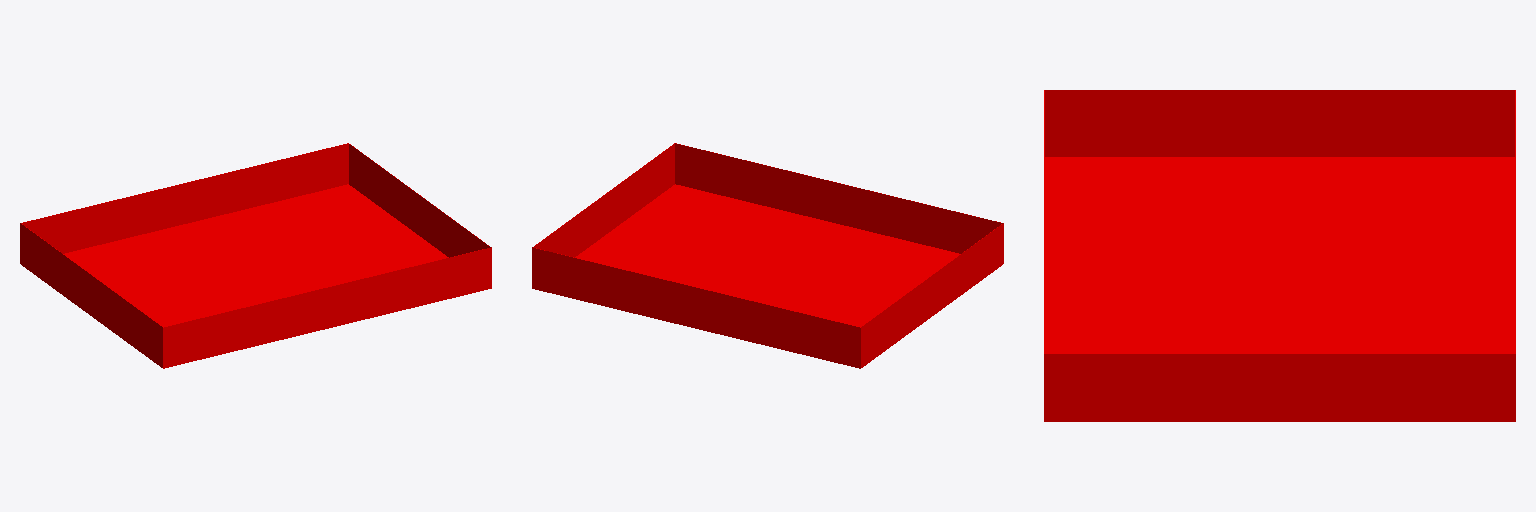
URDF robot description (square.urdf):
<?xml version="1.0" ?>
<robot name="square.urdf">
  <link name="baseLink">
    <contact>
      <lateral_friction value="1.0"/>
      <inertia_scaling value="3.0"/>
    </contact>
    <inertial>
      <origin rpy="0 0 0" xyz="0 0 0"/>
       <mass value=".1"/>
       <inertia ixx="1" ixy="0" ixz="0" iyy="1" iyz="0" izz="1"/>
    </inertial>
    <visual>
      <origin rpy="0 0 0" xyz="0 0 0"/>
      <geometry>
        <mesh filename="3.stl" scale="1 1 1" />
      </geometry>
      <material name="red">
        <color rgba="1 0 0 1"/>
      </material>
    </visual>
    <collision>
      <origin rpy="0 0 0" xyz="0 0 0"/>
      <geometry>
        <mesh filename="3_convex.obj" scale="1 1 1" />
      </geometry>
    </collision>
  </link>
</robot>

--- Render facts (derived) ---
3 views of the same robot in one strip: view 1: azimuth 30°, elevation 25°; view 2: azimuth 150°, elevation 25°; view 3: azimuth 270°, elevation 25° (orthographic).
Model square.urdf with 1 links and 0 joints (none), rooted at baseLink, posed all joints at 0.
Links seen in each view (by area): view 1: baseLink; view 2: baseLink; view 3: baseLink.
Link boxes in pixels (x1,y1,x2,y2): baseLink: [20, 143, 491, 368]; baseLink: [532, 143, 1003, 368]; baseLink: [1044, 90, 1515, 421].
Bounding box of the posed robot: 0.9789 × 0.7367 × 0.1176 m (x, y, z).
1 mesh visuals loaded from 1 distinct referenced files (1 binary STL).